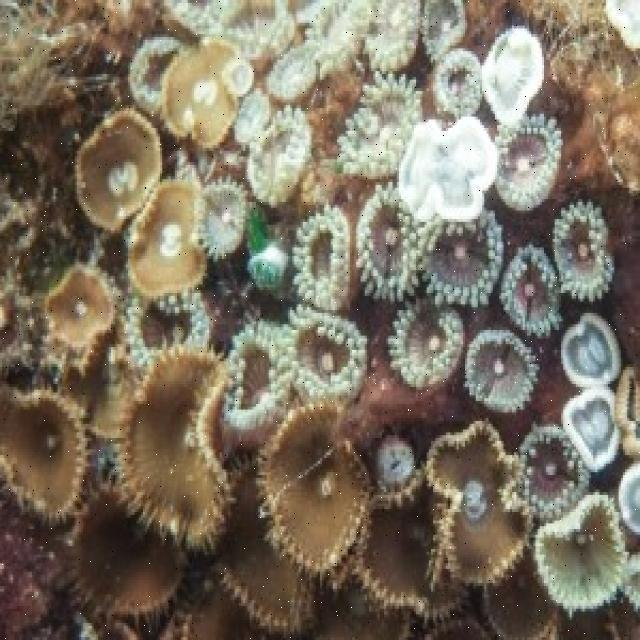Bleached: (194, 47, 640, 428), (1, 1, 161, 373), (227, 318, 629, 405), (516, 403, 640, 608), (161, 1, 466, 43), (127, 293, 212, 366), (132, 38, 190, 108), (608, 1, 640, 49)
Healthy: (1, 403, 555, 640), (4, 353, 238, 544), (76, 112, 204, 304), (534, 39, 640, 202), (307, 71, 375, 228), (38, 264, 118, 377), (163, 44, 241, 146), (471, 3, 606, 39)
